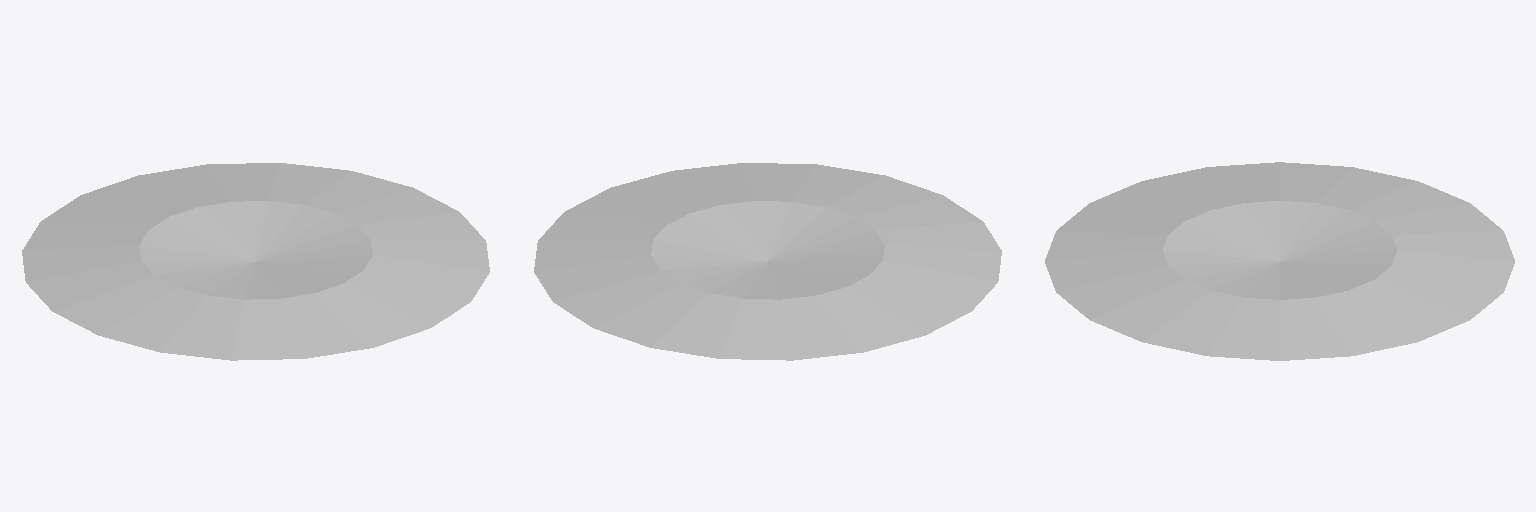
The model's file is Circle_out_UV_VFXmodel.obj.
The picture shows the model from 3 angles: view 1: azimuth 30°, elevation 25°; view 2: azimuth 150°, elevation 25°; view 3: azimuth 270°, elevation 25°; orthographic projection.
Bounding box in the file's own units: 4.52 × 0.1203 × 4.52.